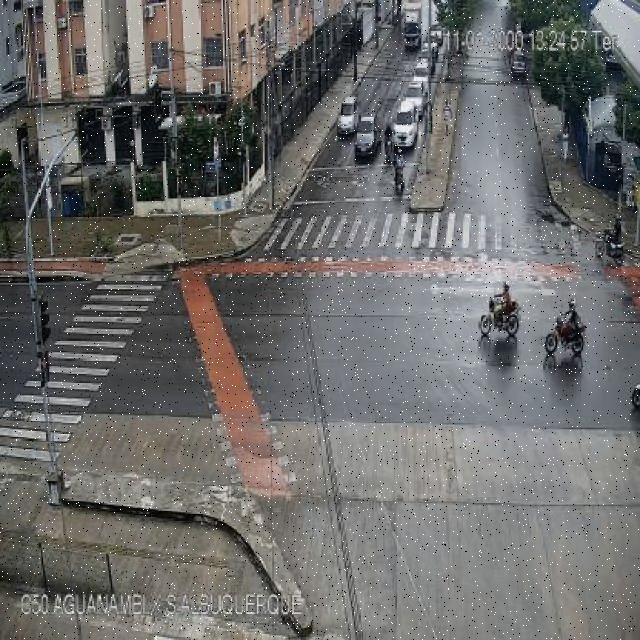Car: (391, 98, 421, 148), (401, 79, 427, 117), (355, 116, 379, 157), (337, 96, 358, 137), (510, 52, 528, 80), (1, 78, 26, 94), (428, 22, 444, 46)
Cycle: (541, 313, 591, 357), (479, 296, 521, 340), (593, 229, 629, 268)
Truck: (400, 2, 424, 52)
